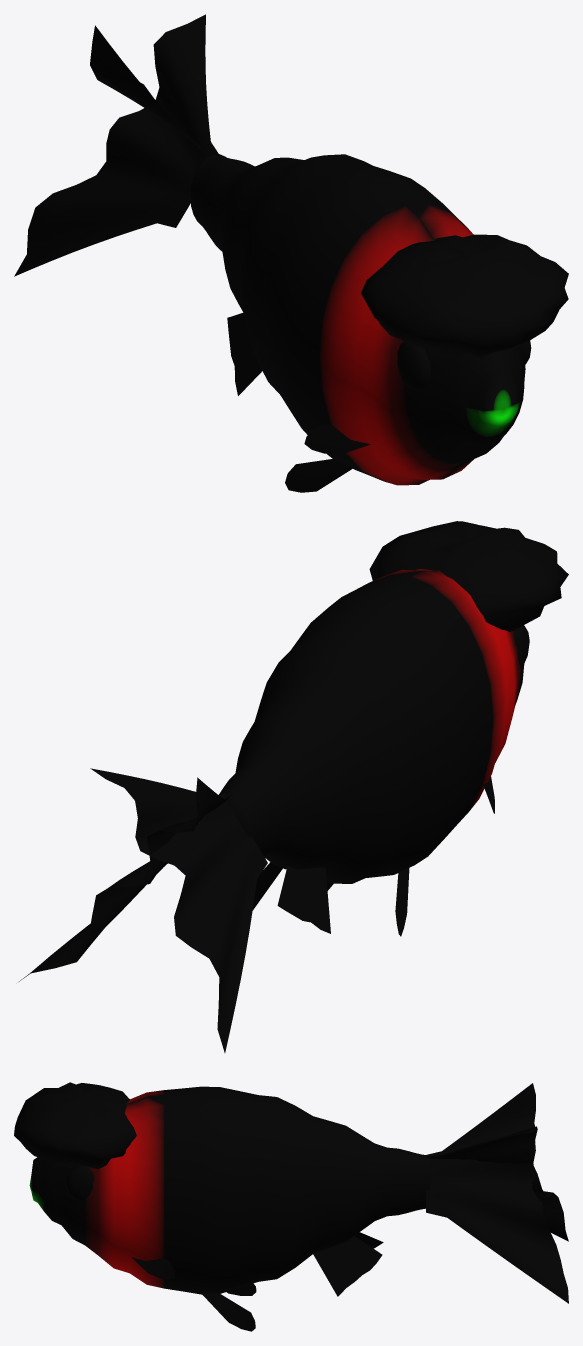
File: goldfish-lionhead.glb
3 views of the same model, one above another, from view 1: azimuth 30°, elevation 25°; view 2: azimuth 150°, elevation 25°; view 3: azimuth 270°, elevation 25° (orthographic). The views are drawn at different scales.
Visible parts, largest first — view 1: gflion_body, gflion_caudalR, gflion_bodyWen, gflion_caudalL, gflion_analR, gflion_pelvicL, gflion_eyeL, gflion_pectoralL; view 2: gflion_body, gflion_caudalR, gflion_bodyWen, gflion_caudalL, gflion_analR, gflion_pelvicL; view 3: gflion_body, gflion_caudalL, gflion_bodyWen, gflion_caudalR, gflion_analL, gflion_pelvicR, gflion_eyeR, gflion_pectoralR.
Part boxes in pixels (x1,y1,x2,y2): gflion_body: (190,154,525,485); gflion_caudalR: (14,14,219,276); gflion_bodyWen: (361,234,568,357); gflion_caudalL: (90,25,213,156); gflion_analR: (227,313,262,395); gflion_pelvicL: (285,459,352,492); gflion_eyeL: (397,341,431,390); gflion_pectoralL: (304,424,370,454); gflion_body: (219,569,524,883); gflion_caudalR: (90,768,267,1052); gflion_bodyWen: (369,521,568,631); gflion_caudalL: (19,777,231,981); gflion_analR: (277,866,330,933); gflion_pelvicL: (395,868,409,936); gflion_body: (29,1086,430,1294); gflion_caudalL: (426,1083,568,1303); gflion_bodyWen: (14,1082,136,1168); gflion_caudalR: (426,1126,568,1241); gflion_analL: (313,1236,382,1296); gflion_pelvicR: (202,1293,255,1331); gflion_eyeR: (65,1166,94,1199); gflion_pectoralR: (131,1257,174,1279).
Bounding box in the file's own units: 0.44 × 0.6133 × 1.39.
